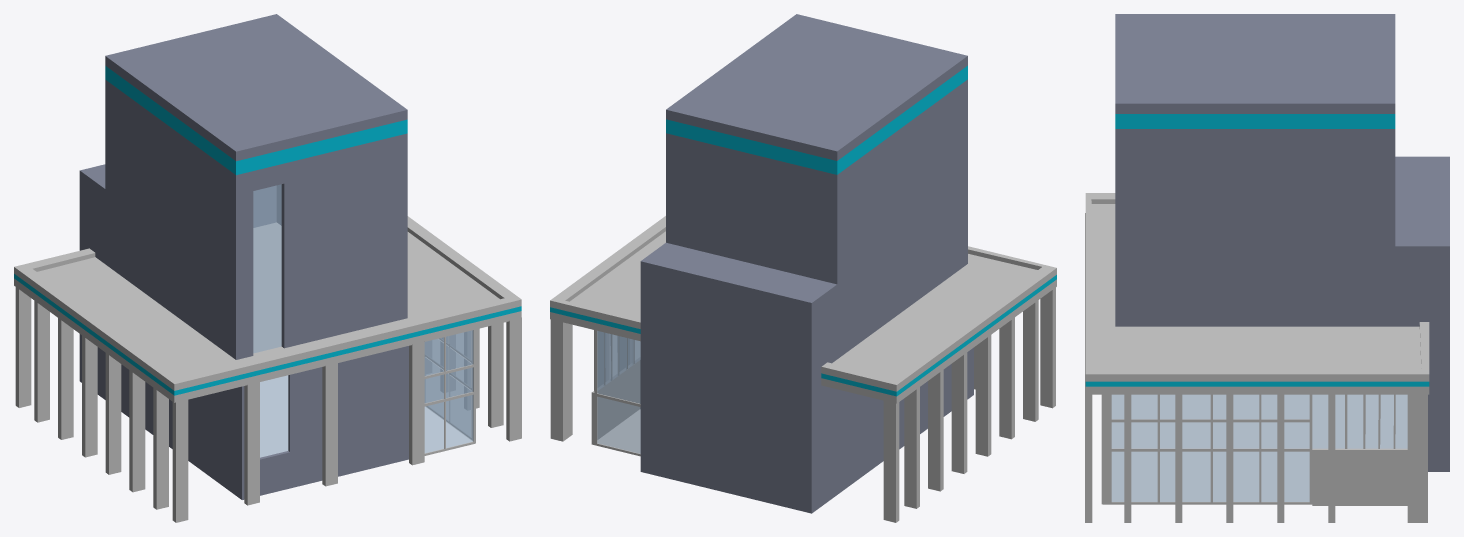
The model's file is George_Moore_Building.fbx.
The picture shows the model from 3 angles, left to right: view 1: azimuth 30°, elevation 25°; view 2: azimuth 150°, elevation 25°; view 3: azimuth 270°, elevation 25°; orthographic projection. The views are drawn at different scales.
Parts seen in each view (by area): view 1: George_Moore_Building; view 2: George_Moore_Building; view 3: George_Moore_Building.
Part boxes in pixels (left/top/right/bottom): George_Moore_Building: left=14, top=14, right=521, bottom=522; George_Moore_Building: left=550, top=14, right=1056, bottom=522; George_Moore_Building: left=1085, top=14, right=1449, bottom=522.
Size of the model in its own units: 6740 by 6383 by 5729.
